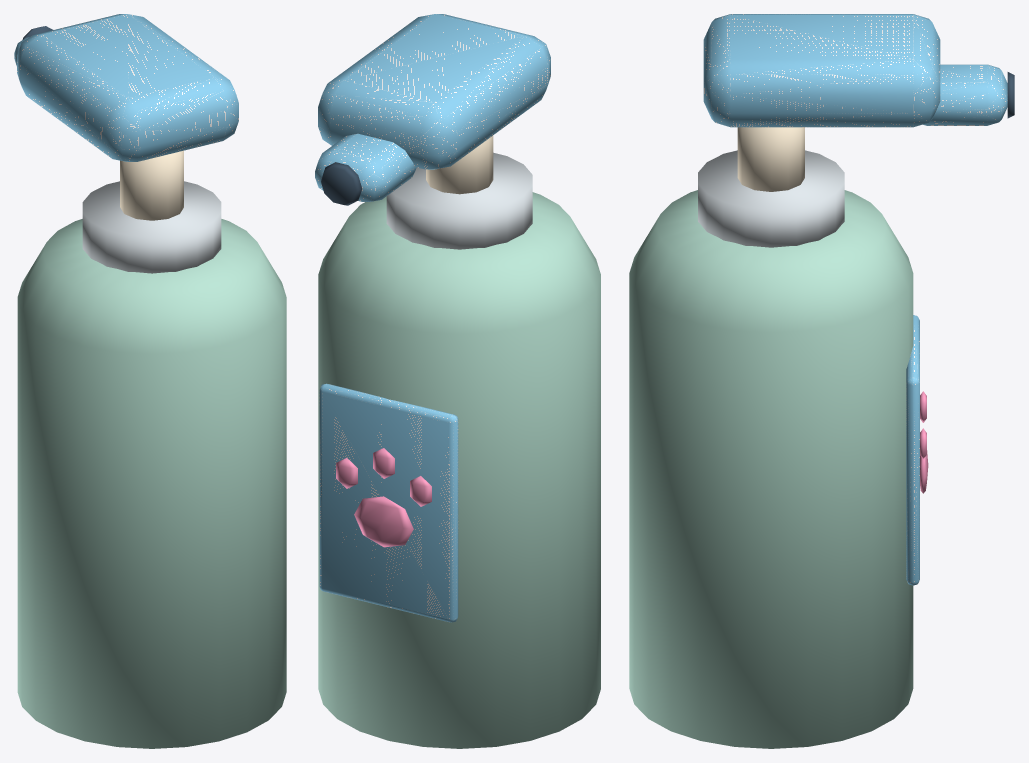
Rendered from foam_pump.glb.
The picture shows the model from 3 angles, left to right: view 1: azimuth 30°, elevation 25°; view 2: azimuth 150°, elevation 25°; view 3: azimuth 270°, elevation 25°; orthographic projection. The views are drawn at different scales.
Parts seen in each view (by area): view 1: Body, Pump; view 2: Body, Pump; view 3: Body, Pump.
Boxes of the visible parts, <box> form: Body: <box>17,181,286,748</box>; Pump: <box>14,14,238,220</box>; Body: <box>318,152,600,748</box>; Pump: <box>315,14,550,205</box>; Body: <box>629,150,928,748</box>; Pump: <box>703,14,1014,191</box>.
Size of the model in its own units: 0.0848 by 0.22 by 0.115.
Materials: 5 (5 with a texture image).
